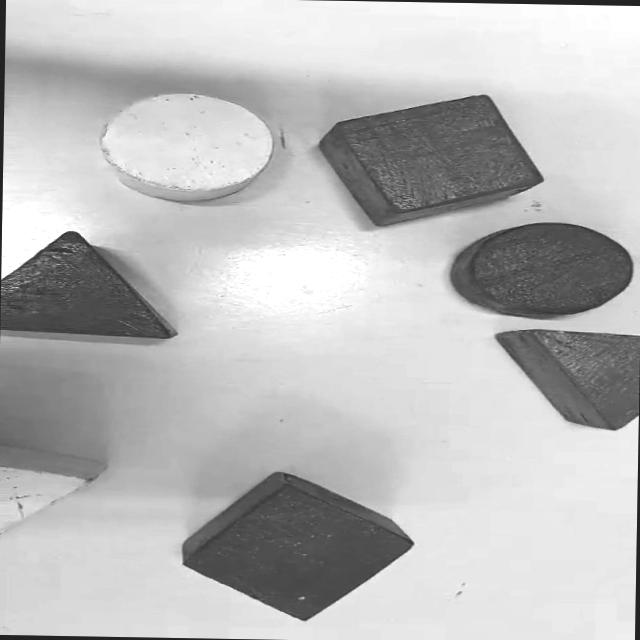bcircle: (451, 221, 633, 319)
bcube: (158, 467, 412, 623)
btriangle: (2, 230, 178, 340)
rcube: (317, 94, 549, 230)
rtriangle: (494, 326, 640, 430)
ycircle: (100, 92, 275, 201)
